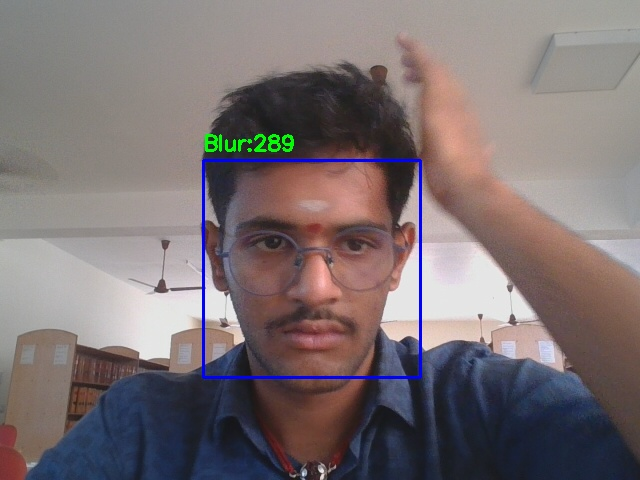real: (203, 160, 420, 377)
